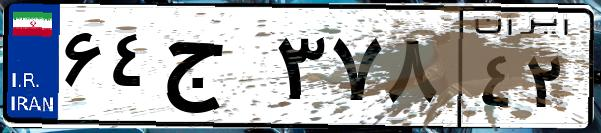2: (525, 38, 570, 115)
3: (270, 28, 330, 110)
4: (475, 38, 525, 113), (110, 28, 158, 98)
6: (57, 26, 110, 100)
7: (330, 28, 385, 110)
8: (385, 28, 445, 110)
ج: (158, 20, 270, 120)
